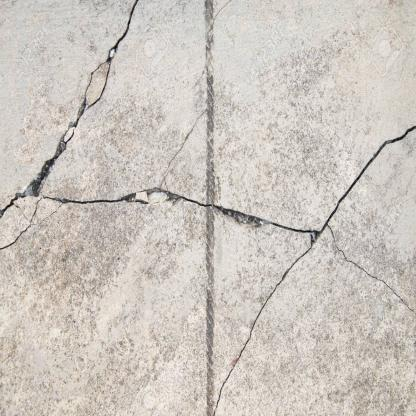branched cracks: (0, 0, 415, 415)
